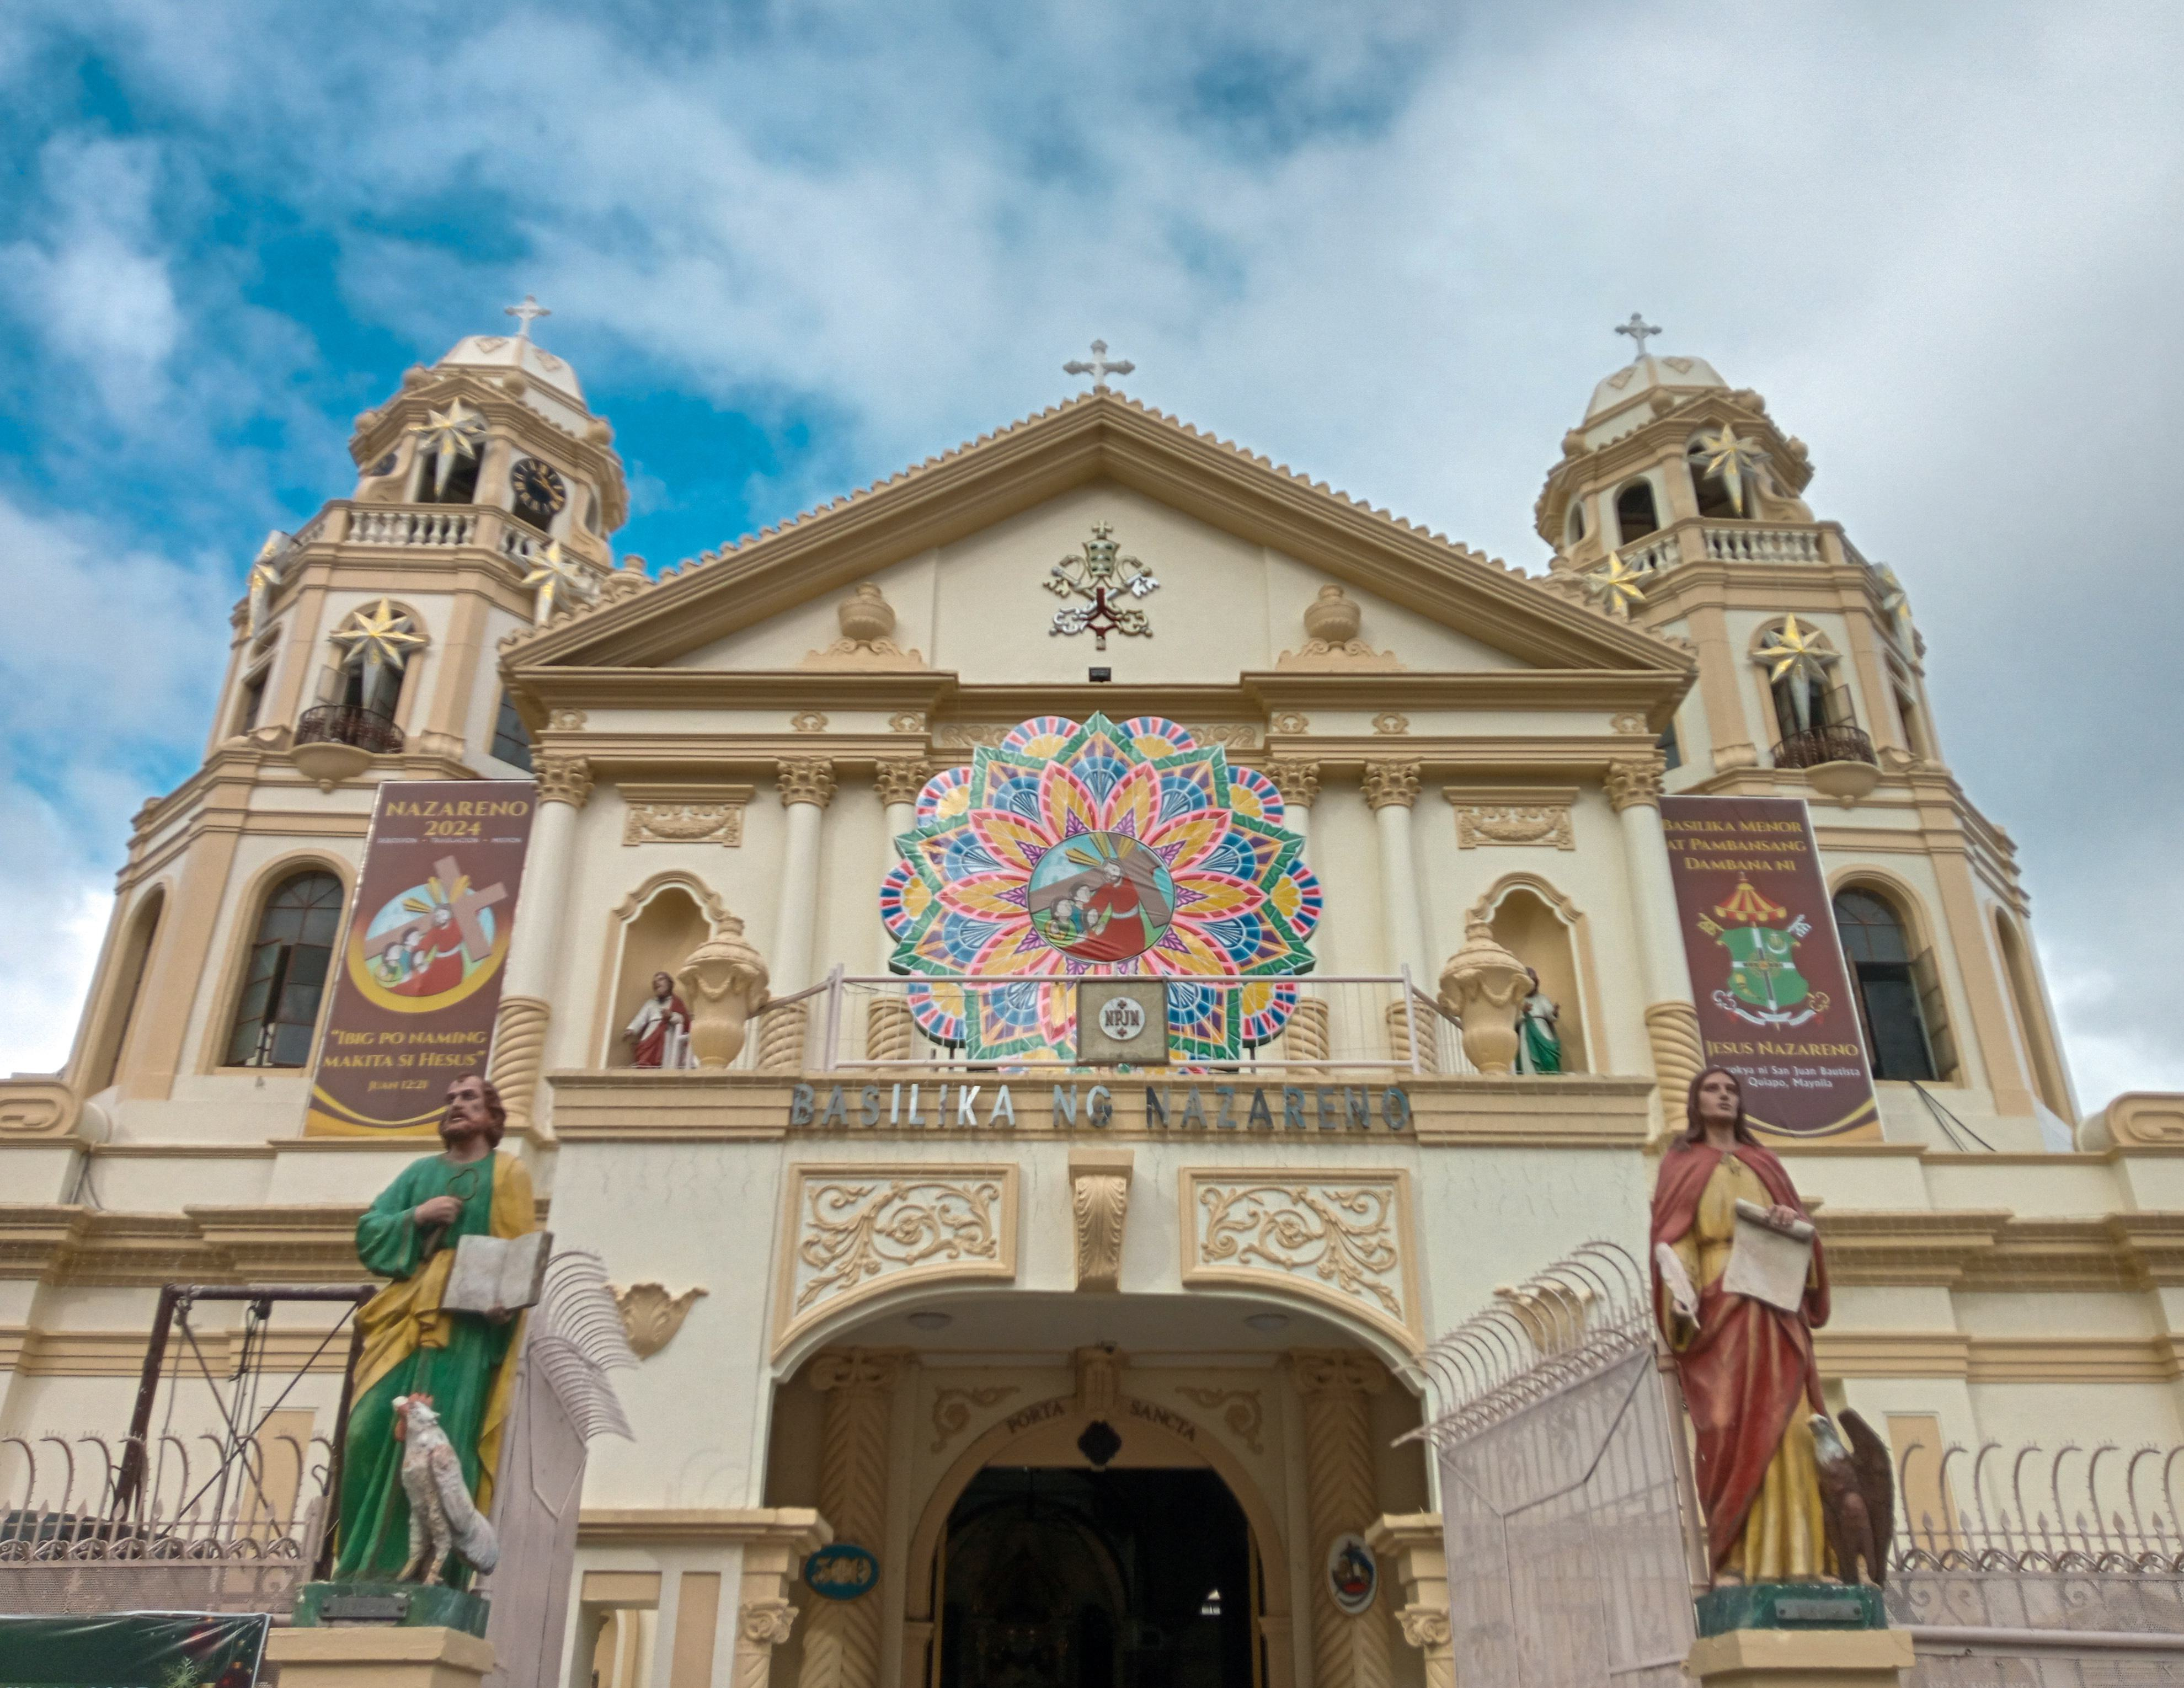quiapo_church_quiapo_manila: (19, 278, 2184, 1663)
